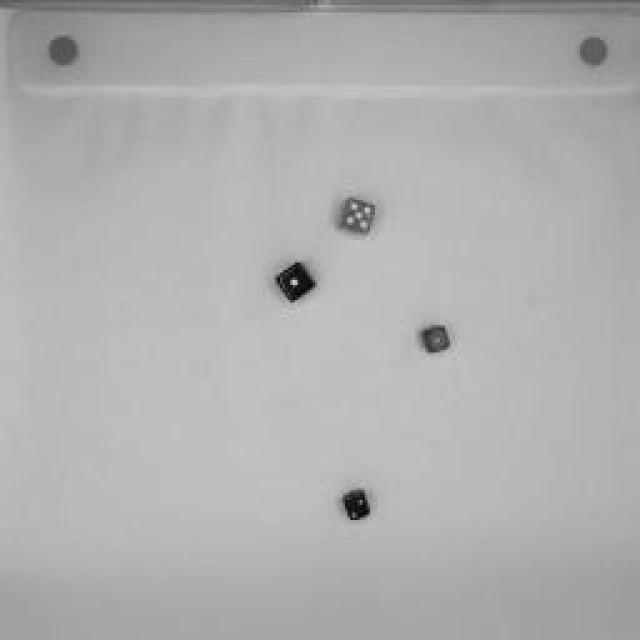dice_1: (270, 256, 322, 312), (415, 321, 457, 364)
dice_2: (339, 485, 379, 525)
dice_5: (332, 192, 382, 248)
